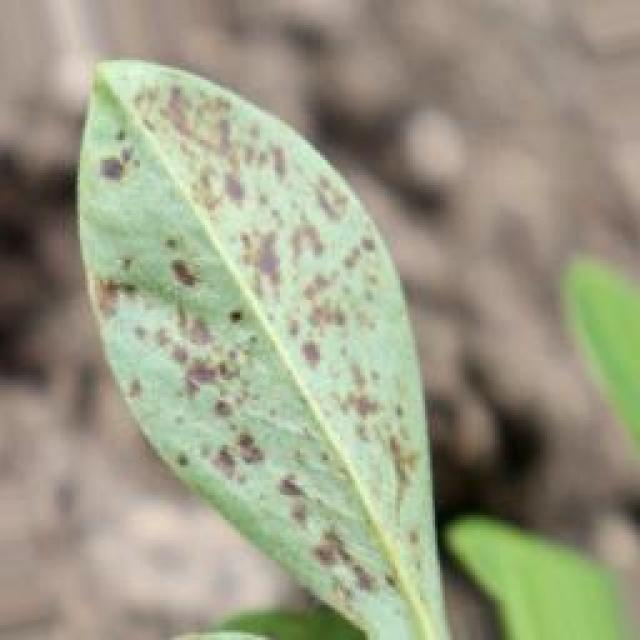Whitefly: (68, 30, 468, 640)
